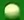white: (0, 0, 24, 20)
